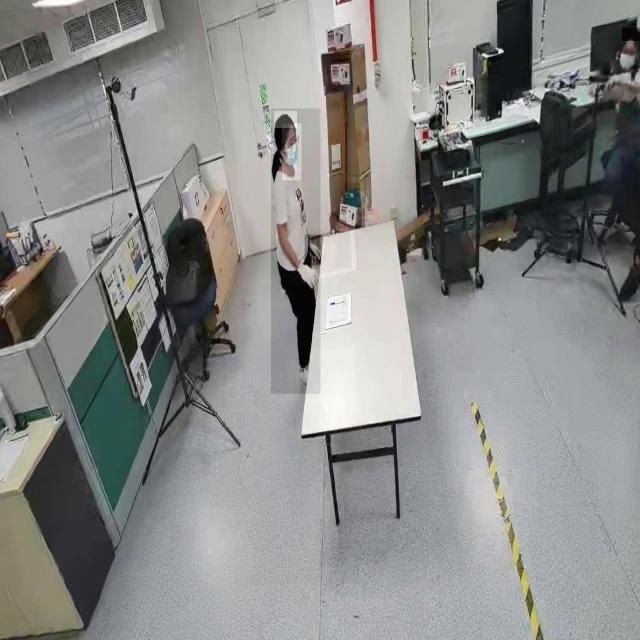face_mask: (282, 124, 302, 180)
hand_glove: (294, 257, 318, 294), (304, 234, 322, 266)
head_nohelmet: (273, 111, 297, 129), (622, 27, 640, 41)
person: (270, 108, 320, 394)
